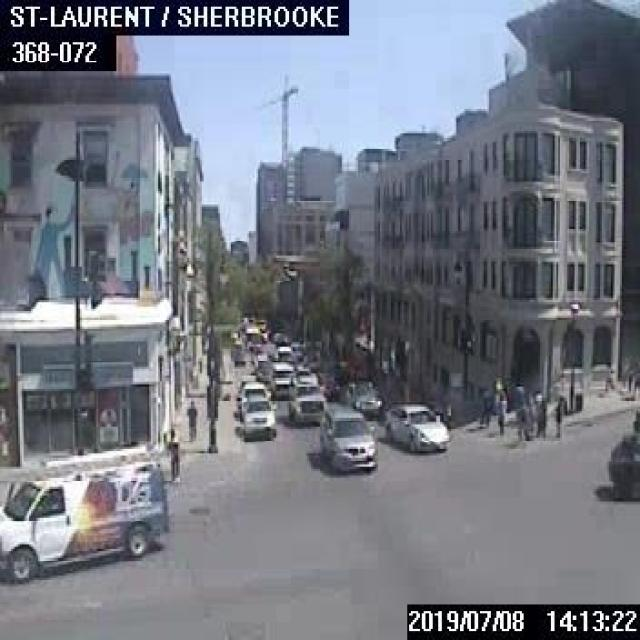pedestrian: (162, 428, 180, 482), (515, 386, 528, 436), (551, 393, 565, 438), (533, 388, 546, 436), (476, 380, 490, 424), (494, 388, 506, 433), (184, 397, 196, 439), (631, 407, 638, 433)
vehicle: (0, 444, 167, 577), (318, 406, 376, 469), (384, 402, 449, 451), (606, 431, 638, 493), (286, 379, 325, 426), (241, 392, 275, 438), (341, 380, 381, 418), (236, 381, 272, 423), (269, 359, 295, 398), (290, 365, 316, 383), (255, 355, 271, 379), (273, 343, 291, 360)
